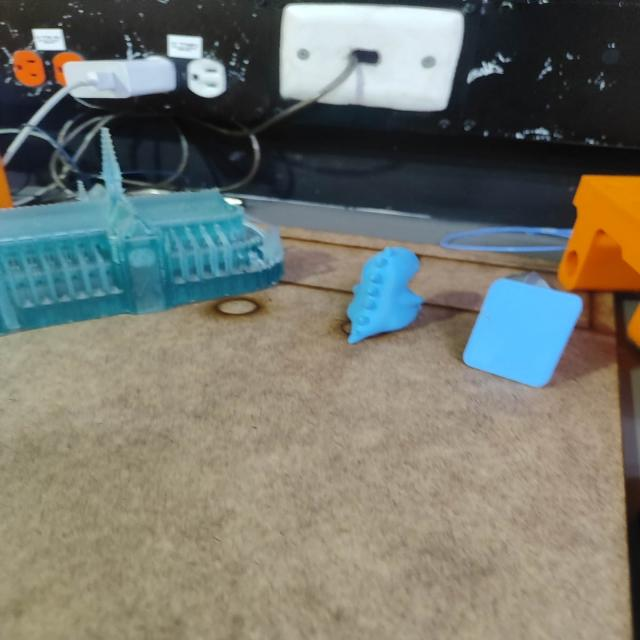DINO: (342, 239, 426, 342)
